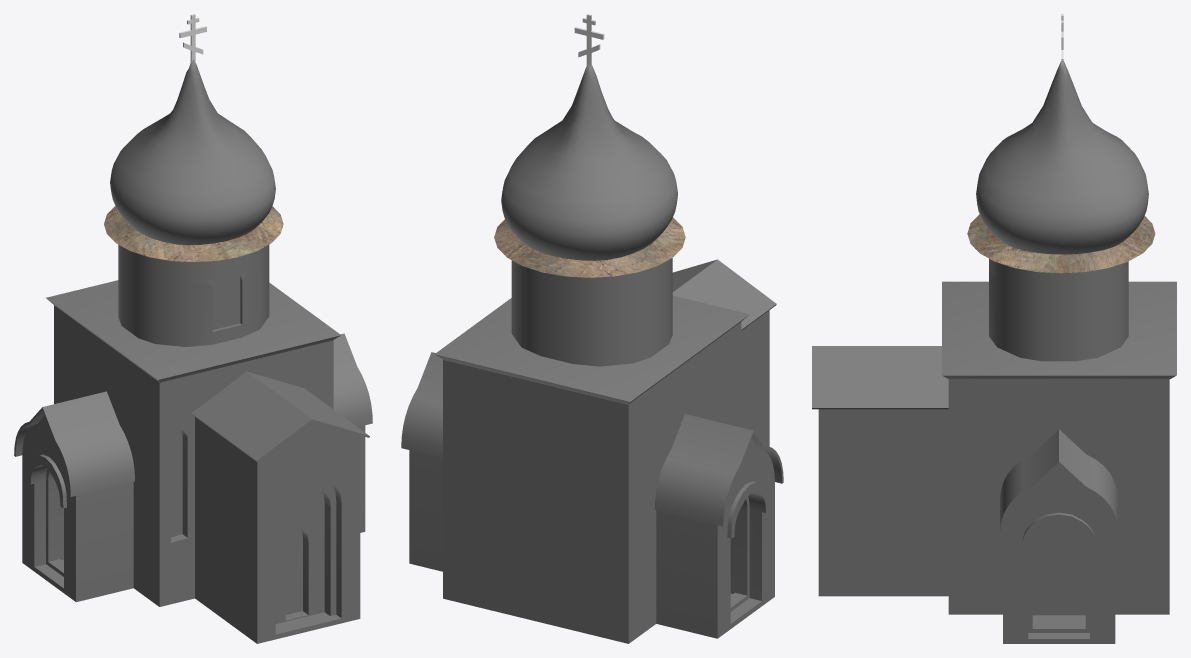
The model's file is Church2.fbx.
The picture shows the model from 3 angles, left to right: view 1: azimuth 30°, elevation 25°; view 2: azimuth 150°, elevation 25°; view 3: azimuth 270°, elevation 25°; orthographic projection. The views are drawn at different scales.
Parts seen in each view (by area): view 1: Box00154, Box001, Church2, Box155, Cylinder002, Object379, Box002; view 2: Box00154, Box001, Box155, Church2, Cylinder002, Object379, Box002; view 3: Box00154, Box001, Box155, Church2, Object379, Cylinder002.
Part boxes in pixels (box(x1,y1,x2,y2)): Box00154: box(22, 244, 365, 643); Box001: box(110, 59, 275, 245); Church2: box(14, 371, 369, 496); Box155: box(46, 280, 340, 382); Cylinder002: box(104, 206, 283, 262); Object379: box(333, 333, 372, 426); Box002: box(179, 14, 206, 63); Box00154: box(409, 258, 774, 643); Box001: box(501, 62, 677, 260); Box155: box(435, 295, 749, 404); Church2: box(654, 259, 783, 526); Cylinder002: box(494, 217, 685, 277); Object379: box(401, 352, 442, 458); Box002: box(574, 14, 604, 66); Box00154: box(818, 258, 1169, 643); Box001: box(976, 61, 1148, 254); Box155: box(942, 281, 1176, 378); Church2: box(812, 346, 948, 409); Object379: box(1000, 429, 1118, 534); Cylinder002: box(967, 214, 1155, 273).
Size of the model in its own units: 843 by 1416 by 842.
